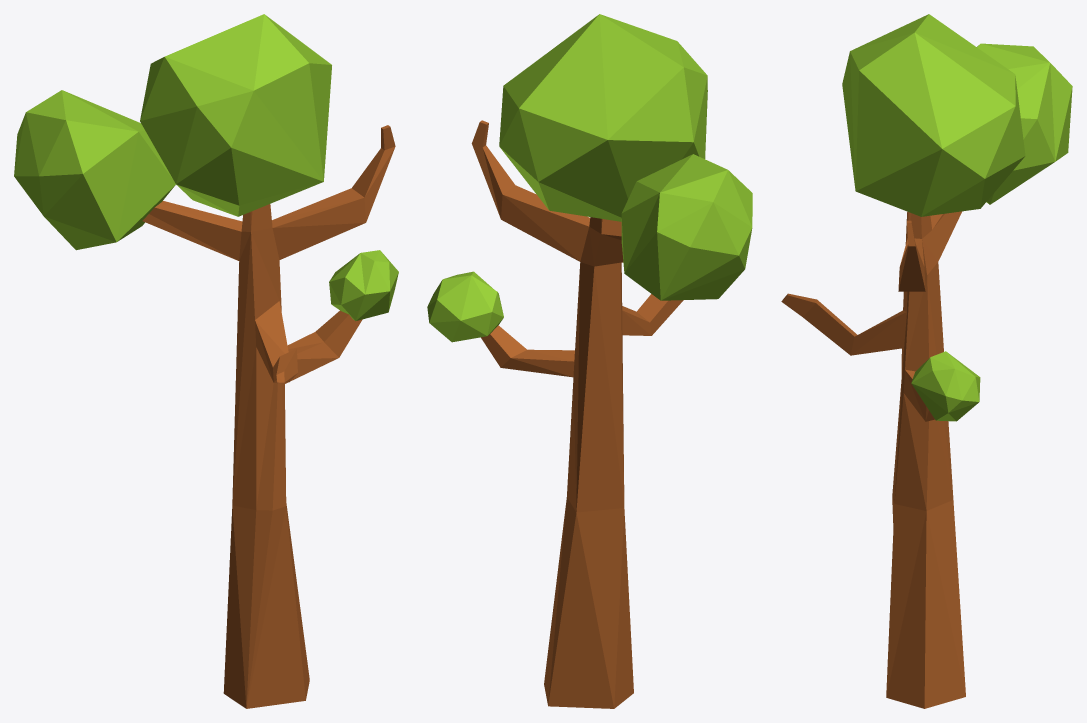
Rendered from Tree_03.glb.
The picture shows the model from 3 angles, left to right: view 1: azimuth 30°, elevation 25°; view 2: azimuth 150°, elevation 25°; view 3: azimuth 270°, elevation 25°; orthographic projection. The views are drawn at different scales.
Visible parts, largest first — view 1: Tree_03; view 2: Tree_03; view 3: Tree_03.
Part boxes in pixels (x1=…): Tree_03: x1=14, y1=14, x2=398, y2=708; Tree_03: x1=427, y1=14, x2=752, y2=708; Tree_03: x1=781, y1=14, x2=1072, y2=708.
Bounding box in the file's own units: 1.48 × 2.78 × 1.13.
1 material, 1 textured.
